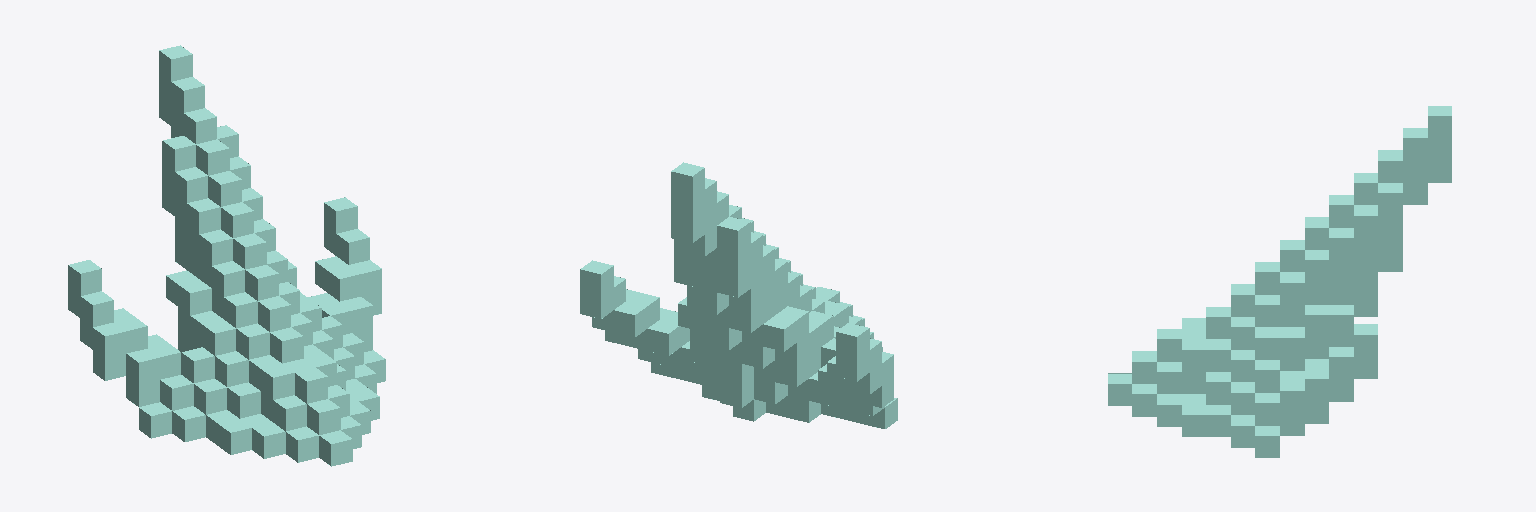
The picture shows the model from 3 angles: view 1: azimuth 30°, elevation 25°; view 2: azimuth 150°, elevation 25°; view 3: azimuth 270°, elevation 25°; orthographic projection.
Parts seen in each view (by area): view 1: FrostbiteProjectileTest; view 2: FrostbiteProjectileTest; view 3: FrostbiteProjectileTest.
Part boxes in pixels (left/top/right/bottom): FrostbiteProjectileTest: left=68, top=45, right=385, bottom=466; FrostbiteProjectileTest: left=580, top=162, right=897, bottom=428; FrostbiteProjectileTest: left=1108, top=106, right=1451, bottom=457.
Size of the model in its own units: 13 by 13 by 14.
1 materials, 1 textured.